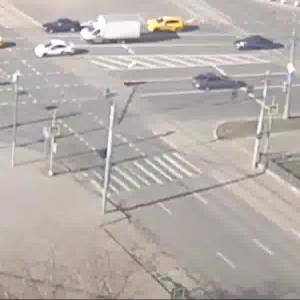car: (83, 20, 148, 52), (191, 71, 257, 100), (229, 38, 290, 62), (31, 39, 85, 65), (38, 16, 82, 36), (146, 17, 185, 38)
